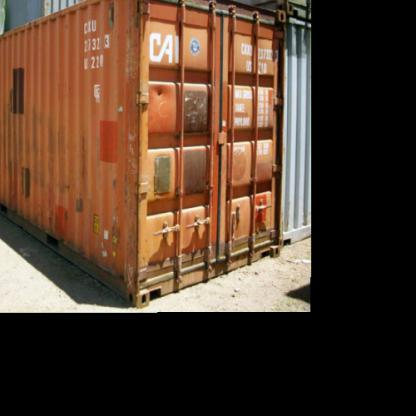Damage: (116, 1, 154, 290), (31, 119, 92, 175), (65, 184, 100, 219)
